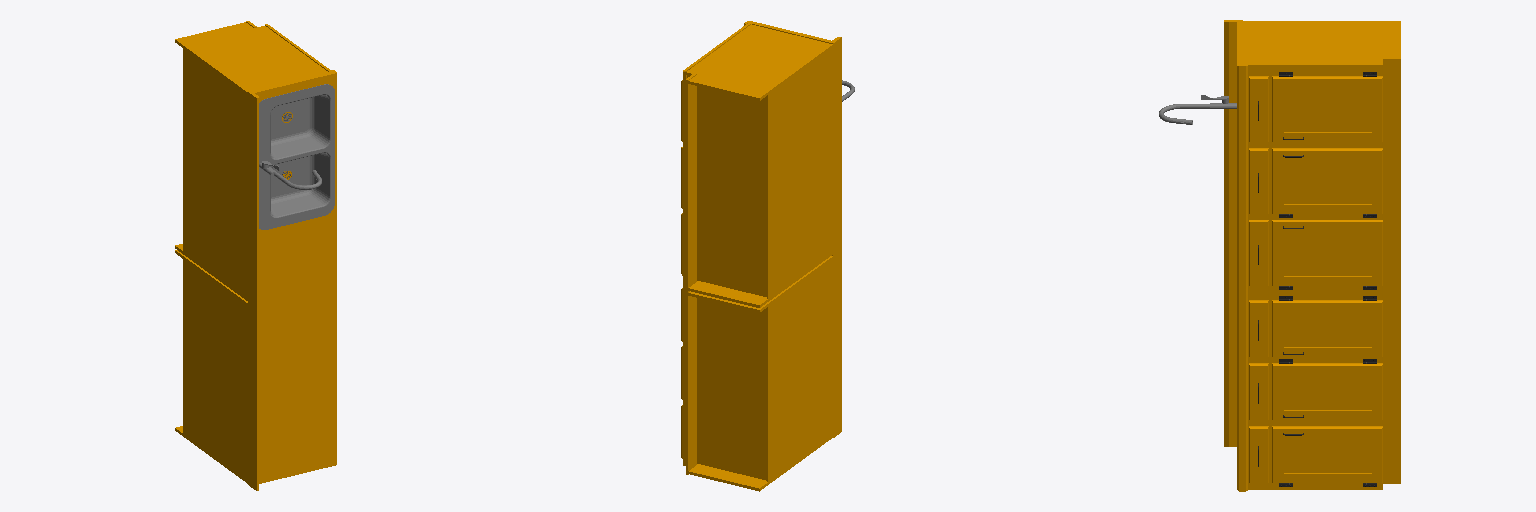
robot.urdf — pallet:
<?xml version="1.0"?>
<robot name="pallet">
 
    <link name="base_link">
        <visual>   <geometry> <mesh filename="sink1.dae"/> </geometry> </visual>
        <collision><geometry> <mesh filename="sink1.dae"/> </geometry> </collision>

        <visual>   <geometry> <mesh filename="sink2.dae"/> </geometry> </visual>
        <collision><geometry> <mesh filename="sink2.dae"/> </geometry> </collision>

        <visual>   <geometry> <mesh filename="sink3.dae"/> </geometry> </visual>
        <collision><geometry> <mesh filename="sink3.dae"/> </geometry> </collision>

        <visual>   <geometry> <mesh filename="sink4.dae"/> </geometry> </visual>
        <collision><geometry> <mesh filename="sink4.dae"/> </geometry> </collision>

        <inertial>
            <origin xyz="0 0 0" rpy="0 0 0"/>
            <mass value="5.0"/>
            <inertia ixx="1.0" ixy="0.0" ixz="0.0" iyy="1.0" iyz="0.0" izz="0.5"/>
        </inertial>

 </link>
 
</robot>

--- Render facts (derived) ---
The picture shows the robot from 3 angles, left to right: view 1: azimuth 30°, elevation 25°; view 2: azimuth 150°, elevation 25°; view 3: azimuth 270°, elevation 25°; orthographic projection.
Robot: pallet — 1 links, 0 joints (none); root link base_link; default pose: every joint at zero.
Links seen in each view (by area): view 1: base_link; view 2: base_link; view 3: base_link.
Boxes of the visible links, left/top/right/bottom form: base_link: left=175, top=21, right=336, bottom=490; base_link: left=681, top=21, right=854, bottom=491; base_link: left=1159, top=20, right=1400, bottom=491.
Bounding box of the posed robot: 0.6256 × 1.34 × 2.59 m (x, y, z).
Meshes: 4 distinct files referenced, 4 mesh visuals loaded (4 Collada DAE).
